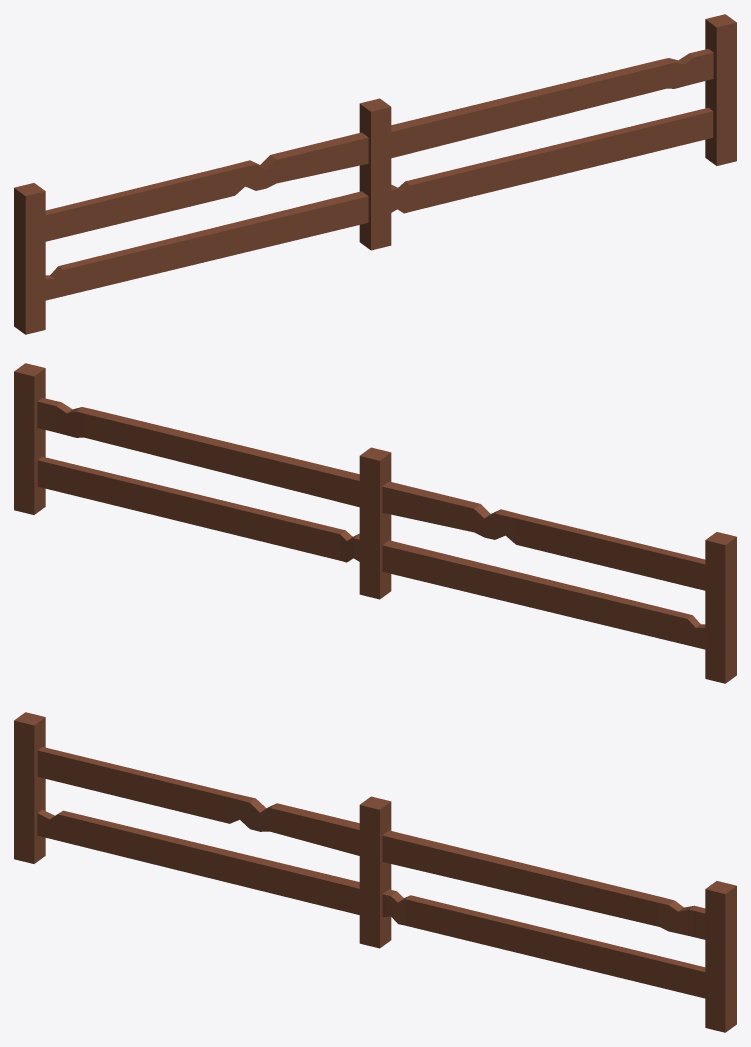
Rendered from fence.glb.
The picture shows the model from 3 angles, top to bottom: view 1: azimuth 30°, elevation 25°; view 2: azimuth 150°, elevation 25°; view 3: azimuth 330°, elevation 25°; orthographic projection.
Parts seen in each view (by area): view 1: Fence; view 2: Fence; view 3: Fence.
Part boxes in pixels (bbox=[...]): Fence: bbox=[14, 14, 736, 334]; Fence: bbox=[14, 363, 736, 683]; Fence: bbox=[14, 712, 736, 1032].
Bounding box in the file's own units: 5.89 × 1.1 × 0.1655.
